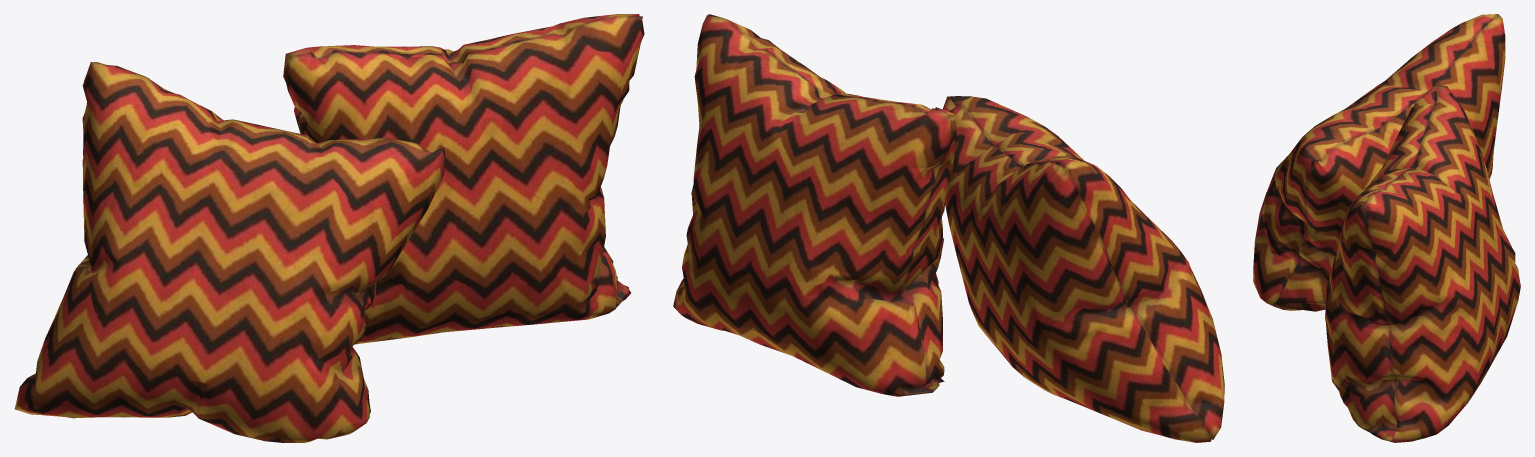
File: throw_pillows_01.glb
3 views of the same model, side by side, from view 1: azimuth 30°, elevation 25°; view 2: azimuth 150°, elevation 25°; view 3: azimuth 270°, elevation 25° (orthographic). The views are drawn at different scales.
Parts seen in each view (by area): view 1: throw_pillows_01_pillow01, throw_pillows_01_pillow02; view 2: throw_pillows_01_pillow02, throw_pillows_01_pillow01; view 3: throw_pillows_01_pillow02, throw_pillows_01_pillow01.
Boxes of the visible parts, x1,y1,x2,y2 form: throw_pillows_01_pillow01: (14,62,444,442); throw_pillows_01_pillow02: (283,14,644,344); throw_pillows_01_pillow02: (673,14,956,396); throw_pillows_01_pillow01: (943,96,1224,442); throw_pillows_01_pillow02: (1325,85,1520,442); throw_pillows_01_pillow01: (1253,14,1505,311).
Size of the model in its own units: 0.9399 by 0.45 by 0.452.
1 material, 1 textured.
